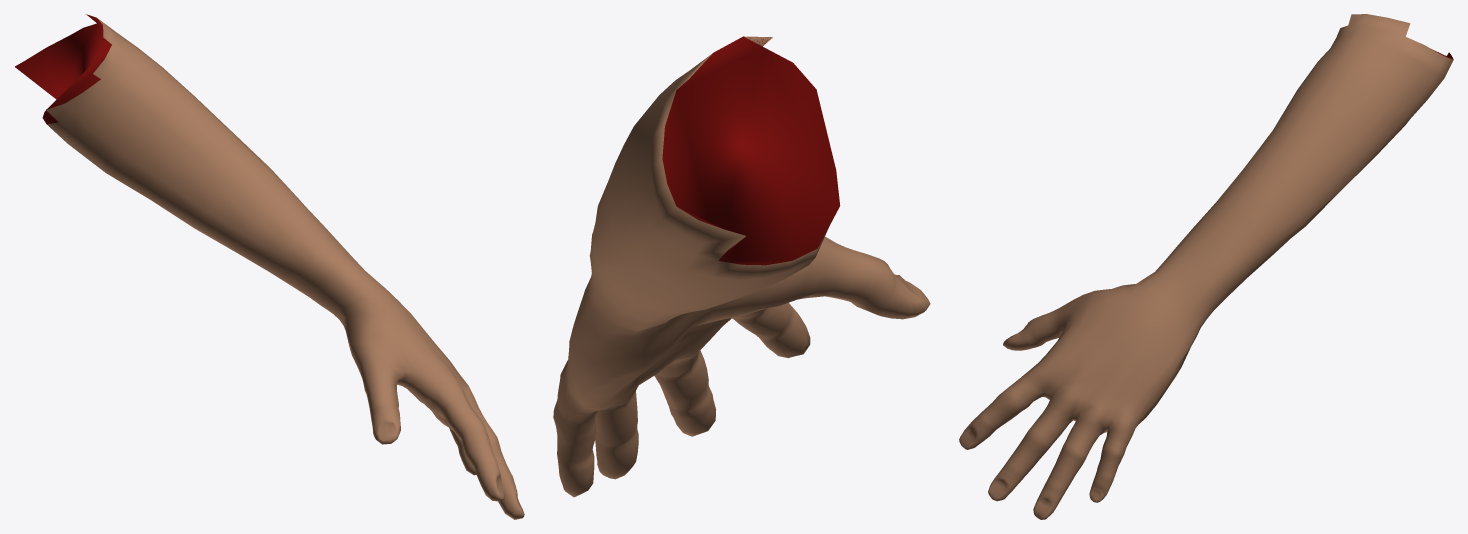
Rendered from SM_Part_F1_arm_l.gltf.
3 renders of one model, left to right at view 1: azimuth 30°, elevation 25°; view 2: azimuth 150°, elevation 25°; view 3: azimuth 270°, elevation 25°, orthographic. The views are drawn at different scales.
Visible parts, largest first — view 1: SM_Part_F1_arm_l; view 2: SM_Part_F1_arm_l; view 3: SM_Part_F1_arm_l.
Part boxes in pixels (left/top/right/bottom): SM_Part_F1_arm_l: left=15, top=14, right=524, bottom=519; SM_Part_F1_arm_l: left=553, top=36, right=930, bottom=497; SM_Part_F1_arm_l: left=959, top=14, right=1453, bottom=519.
Size of the model in its own units: 0.1946 by 0.2585 by 0.2942.
